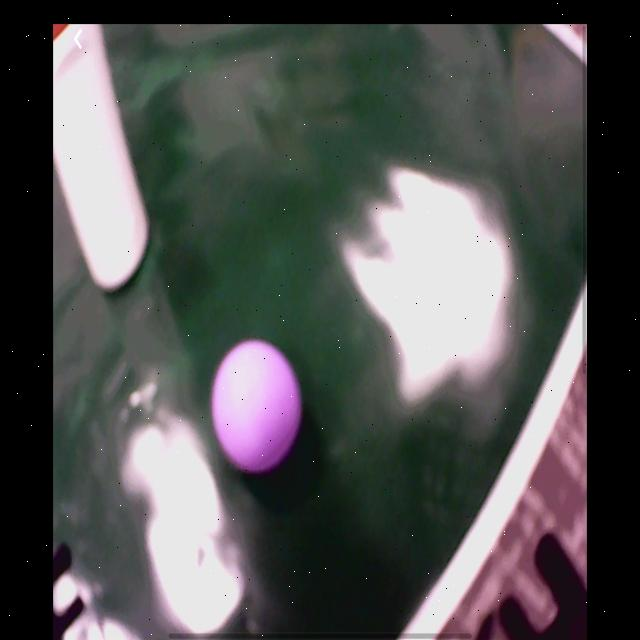ball: (211, 340, 303, 473)
